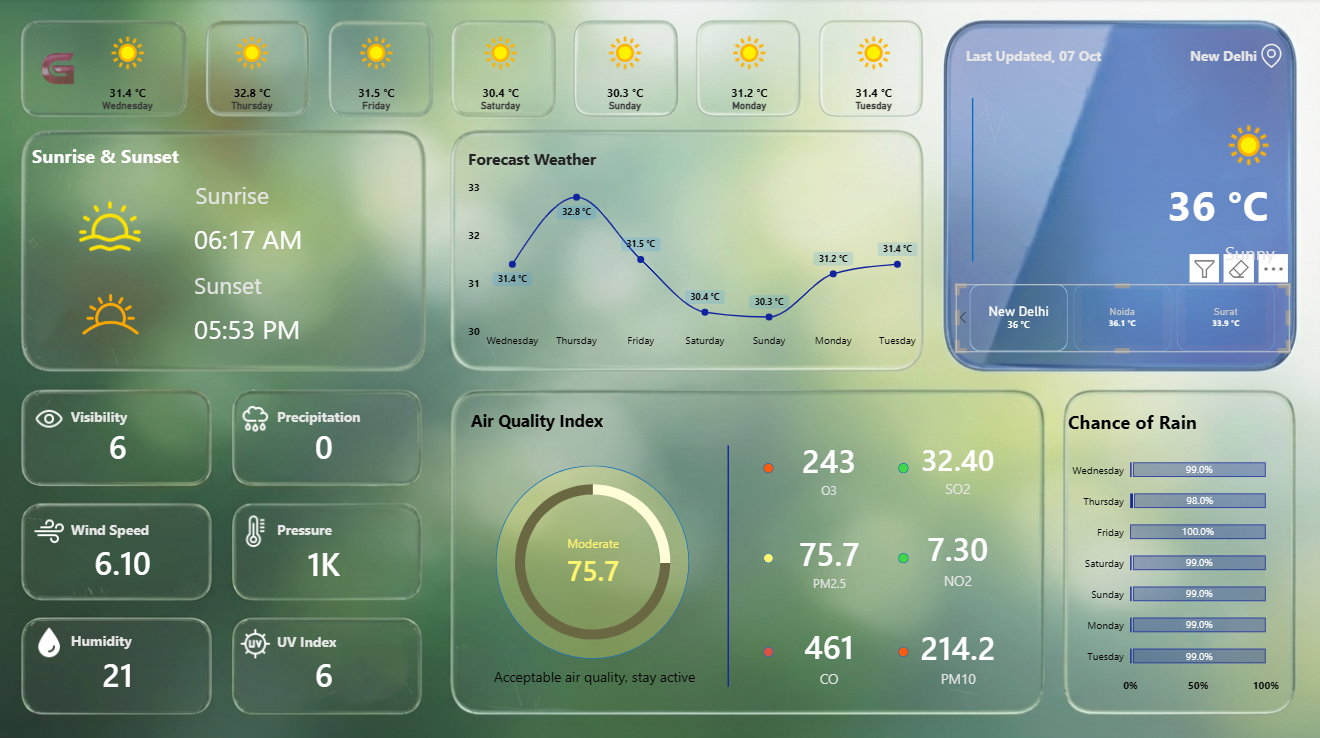

This screenshot's page, from the dashboard's own definition file:
{"tool":"powerbi","page":{"name":"Weather","canvas":[1920,1080],"ordinal":0},"visuals":[{"type":"donutChart","title":"SO2","fields":{"Y":["Sum(Current_W.current.air_quality.pm2_5)","_Measures.left_pm2.5"]},"box":[705.8,660.5,313.1,313.1],"z":0},{"type":"image","box":[345.5,749.2,56.4,45.5],"z":0,"group":"g1"},{"type":"advancedSlicerVisual","fields":{"Label":["_Measures.Current_Temp"],"Values":["Citys.location.name"]},"box":[1388,414.4,483.2,97.7],"z":1000},{"type":"image","box":[345.5,585.6,56.4,45.5],"z":1000,"group":"g1"},{"type":"shape","box":[1387.5,201.9,474.6,192.8],"z":2000},{"type":"image","box":[345.5,911.1,56.4,45.5],"z":2000,"group":"g1"},{"type":"shape","box":[1398.9,338.4,463.3,57.9],"z":3000},{"type":"shape","box":[401.9,905.6,109.1,50.9],"z":3000,"group":"g1"},{"type":"shape","box":[1635.9,57.9,191.8,50.7],"z":4000},{"type":"shape","box":[401.9,743.8,109.1,50.9],"z":4000,"group":"g1"},{"type":"shape","box":[1398.9,57.9,271.4,50.7],"z":5000},{"type":"shape","box":[401.9,580.1,138.2,50.9],"z":5000,"group":"g1"},{"type":"image","box":[1827.8,61.5,34.4,43.4],"z":6000},{"type":"cardVisual","fields":{"Data":["Min(Current_W.current.condition.icon)"]},"box":[1702.1,58.2,218.2,207.3],"z":7000},{"type":"image","box":[47.3,585.6,56.4,45.5],"z":8000},{"type":"image","box":[47.3,911.1,56.4,45.5],"z":9000},{"type":"image","box":[47.3,749.2,56.4,45.5],"z":10000},{"type":"shape","box":[103.7,580.1,109.1,50.9],"z":11000},{"type":"shape","box":[103.7,905.6,109.1,50.9],"z":12000},{"type":"shape","box":[103.7,743.8,121.8,50.9],"z":13000},{"type":"group","id":"g1","title":"Group 1","box":[345.5,580.1,194.6,376.4],"z":14000},{"type":"cardVisual","fields":{"Data":["Sum(Current_W.current.wind_kph)"]},"box":[103.2,749.2,157.4,135.7],"z":15000},{"type":"cardVisual","fields":{"Data":["Sum(Current_W.current.vis_km)"]},"box":[103.7,580.1,143.7,136.4],"z":16000},{"type":"cardVisual","fields":{"Data":["Sum(Current_W.current.humidity)"]},"box":[103.7,911.1,143.7,136.4],"z":17000},{"type":"cardVisual","fields":{"Data":["Sum(Current_W.current.uv)"]},"box":[401.9,911.1,143.7,136.4],"z":18000},{"type":"cardVisual","fields":{"Data":["Sum(Current_W.current.pressure_mb)"]},"box":[401.9,749.2,143.7,136.4],"z":19000},{"type":"cardVisual","fields":{"Data":["Sum(Current_W.current.precip_in)"]},"box":[401.9,580.1,143.7,136.4],"z":20000},{"type":"advancedSlicerVisual","fields":{"Values":["Forecast_W_Day.Day_name"]},"box":[103.2,36.2,1252.3,137.5],"z":21000},{"type":"lineChart","title":"Forecast Weather","fields":{"Category":["Forecast_W_Day.Day_name"],"Y":["Sum(Forecast_W_Day.forecast.forecastday.day.avgtemp_c)"]},"box":[665.8,201.8,690.8,324.6],"z":22000},{"type":"shape","box":[47.1,202.7,233.4,48.9],"z":23000},{"type":"shape","box":[280.5,316.7,255.9,64.5],"z":24000},{"type":"shape","box":[282.3,251.5,255.9,64.5],"z":25000},{"type":"shape","box":[280.5,381.8,255.9,64.5],"z":26000},{"type":"shape","box":[280.5,447,255.9,64.5],"z":27000},{"type":"image","box":[88.7,285.9,150.2,88.7],"z":28000},{"type":"image","box":[79.6,403.6,170.1,108.6],"z":29000},{"type":"hundredPercentStackedBarChart","title":"Chance of Rain","fields":{"Category":["Forecast_W_Day.Day_name"],"Y":["Sum(Forecast_W_Day.forecast.forecastday.day.daily_chance_of_rain)","_Measures.chance_of_rain"]},"box":[1533.9,580.8,337.9,445.2],"z":30000},{"type":"shape","box":[682.2,586.3,233.4,48.9],"z":31000},{"type":"cardVisual","title":"SO2","fields":{"Data":["Sum(Current_W.current.air_quality.so2)"]},"box":[1311.4,612.7,158.8,136.4],"z":32000},{"type":"cardVisual","title":"SO2","fields":{"Data":["Sum(Current_W.current.air_quality.no2)"]},"box":[1311.4,743.5,158.8,136.4],"z":33000},{"type":"cardVisual","title":"SO2","fields":{"Data":["Sum(Current_W.current.air_quality.pm10)"]},"box":[1312,884.9,159.3,137.5],"z":34000},{"type":"cardVisual","title":"SO2","fields":{"Data":["Sum(Current_W.current.air_quality.co)"]},"box":[1126.4,885.5,158.8,136.4],"z":35000},{"type":"cardVisual","title":"SO2","fields":{"Data":["Sum(Current_W.current.air_quality.pm2_5)"]},"box":[1125.6,749.2,159.3,135.7],"z":36000},{"type":"cardVisual","title":"SO2","fields":{"Data":["Sum(Current_W.current.air_quality.o3)"]},"box":[1126.4,612.7,158.8,136.4],"z":37000},{"type":"shape","box":[1109.3,673.2,15,15],"z":38000},{"type":"shape","box":[1304.8,673.2,15,15],"z":39000},{"type":"shape","box":[1304.8,939.2,15,15],"z":40000},{"type":"shape","box":[1109.3,803.5,15,15],"z":41000},{"type":"shape","box":[1304.8,803.5,15,15],"z":42000},{"type":"shape","box":[1109.3,939.2,15,15],"z":43000},{"type":"shape","box":[1047.8,647.9,21.7,349.3],"z":44000},{"type":"shape","box":[722.1,676.8,280,280],"z":44500},{"type":"cardVisual","title":"SO2","fields":{"Data":["Sum(Current_W.current.air_quality.pm2_5)"]},"box":[783.6,749.2,159.3,135.7],"z":45000},{"type":"shape","box":[682.2,957.3,365.6,48.9],"z":45001},{"type":"image","box":[63.3,43.4,50.7,117.6],"z":45002},{"type":"shape","box":[1391.6,144.8,41.6,237.1],"z":45003}]}

Visuals, with their boxes in screenshot pixels (x1, y1, x2, y2), scaled from the page's 1920x1080 canvas onto the 1320x738 screenshot:
"SO2" donutChart: select_region(485, 451, 700, 665)
image: select_region(238, 512, 276, 543)
advancedSlicerVisual - _Measures.Current_Temp x Citys.location.name: select_region(954, 283, 1286, 350)
image: select_region(238, 400, 276, 431)
shape: select_region(954, 138, 1280, 270)
image: select_region(238, 623, 276, 654)
shape: select_region(962, 231, 1280, 271)
shape: select_region(276, 619, 351, 654)
shape: select_region(1125, 40, 1257, 74)
shape: select_region(276, 508, 351, 543)
shape: select_region(962, 40, 1148, 74)
shape: select_region(276, 396, 371, 431)
image: select_region(1257, 42, 1280, 72)
cardVisual - Min(Current_W.current.condition.icon): select_region(1170, 40, 1319, 181)
image: select_region(33, 400, 71, 431)
image: select_region(33, 623, 71, 654)
image: select_region(33, 512, 71, 543)
shape: select_region(71, 396, 146, 431)
shape: select_region(71, 619, 146, 654)
shape: select_region(71, 508, 155, 543)
"Group 1" group: select_region(238, 396, 371, 654)
cardVisual - Sum(Current_W.current.wind_kph): select_region(71, 512, 179, 605)
cardVisual - Sum(Current_W.current.vis_km): select_region(71, 396, 170, 490)
cardVisual - Sum(Current_W.current.humidity): select_region(71, 623, 170, 716)
cardVisual - Sum(Current_W.current.uv): select_region(276, 623, 375, 716)
cardVisual - Sum(Current_W.current.pressure_mb): select_region(276, 512, 375, 605)
cardVisual - Sum(Current_W.current.precip_in): select_region(276, 396, 375, 490)
advancedSlicerVisual - Forecast_W_Day.Day_name: select_region(71, 25, 932, 119)
"Forecast Weather" lineChart: select_region(458, 138, 933, 360)
shape: select_region(32, 139, 193, 172)
shape: select_region(193, 216, 369, 260)
shape: select_region(194, 172, 370, 216)
shape: select_region(193, 261, 369, 305)
shape: select_region(193, 305, 369, 350)
image: select_region(61, 195, 164, 256)
image: select_region(55, 276, 172, 350)
"Chance of Rain" hundredPercentStackedBarChart: select_region(1055, 397, 1287, 701)
shape: select_region(469, 401, 629, 434)
"SO2" cardVisual: select_region(902, 419, 1011, 512)
"SO2" cardVisual: select_region(902, 508, 1011, 601)
"SO2" cardVisual: select_region(902, 605, 1012, 699)
"SO2" cardVisual: select_region(774, 605, 884, 698)
"SO2" cardVisual: select_region(774, 512, 883, 605)
"SO2" cardVisual: select_region(774, 419, 884, 512)
shape: select_region(763, 460, 773, 470)
shape: select_region(897, 460, 907, 470)
shape: select_region(897, 642, 907, 652)
shape: select_region(763, 549, 773, 559)
shape: select_region(897, 549, 907, 559)
shape: select_region(763, 642, 773, 652)
shape: select_region(720, 443, 735, 681)
shape: select_region(496, 462, 689, 654)
"SO2" cardVisual: select_region(539, 512, 648, 605)
shape: select_region(469, 654, 720, 688)
image: select_region(44, 30, 78, 110)
shape: select_region(957, 99, 985, 261)
